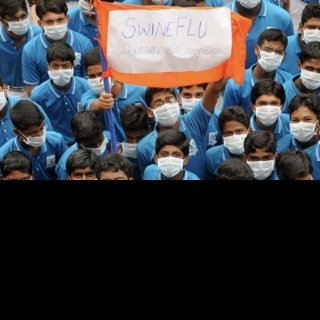with_mask: (152, 95, 180, 127), (288, 113, 317, 143), (88, 68, 115, 98), (247, 152, 275, 180), (47, 61, 75, 88), (157, 148, 183, 177), (223, 125, 248, 155), (258, 44, 284, 72), (256, 98, 280, 127), (42, 15, 68, 40), (180, 89, 204, 116), (21, 124, 46, 148), (299, 63, 320, 90), (6, 12, 28, 36), (83, 136, 108, 157), (301, 22, 320, 44)
